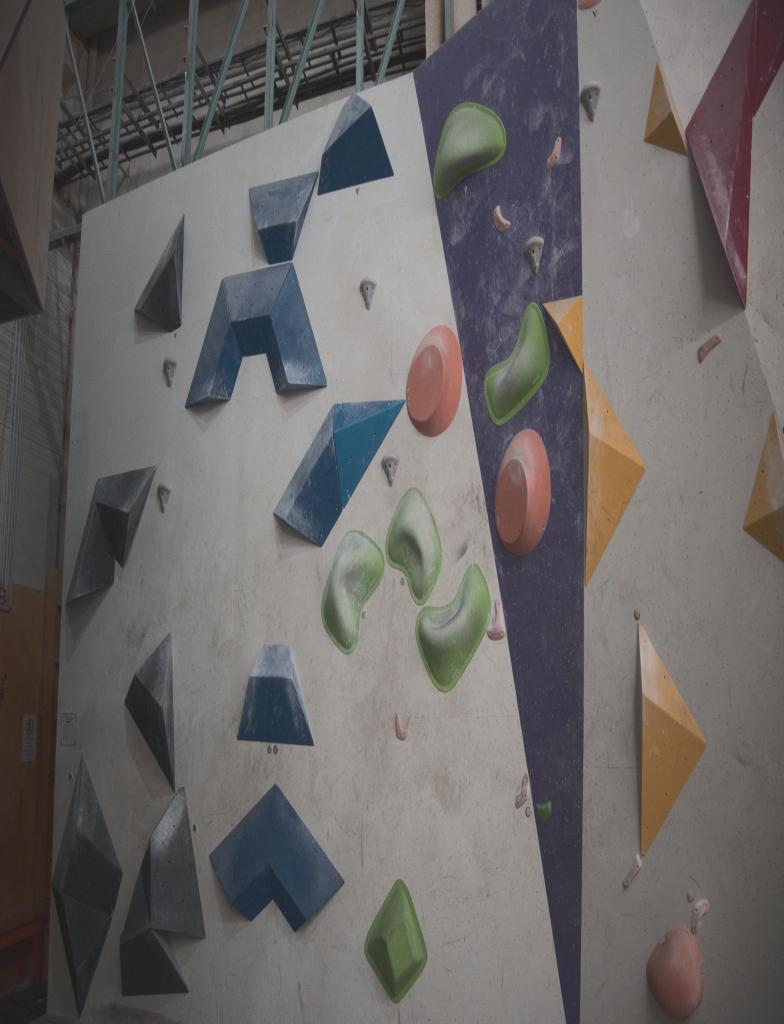crimp: (495, 429, 550, 555), (406, 325, 462, 437), (698, 333, 721, 363), (515, 773, 528, 808), (395, 713, 407, 740)
downhold: (580, 81, 600, 121), (525, 236, 543, 274), (382, 453, 399, 486), (360, 278, 375, 309), (157, 484, 171, 511), (164, 358, 176, 387)
jib: (365, 879, 427, 1003)
ledge: (416, 564, 491, 691), (484, 303, 550, 425)
pinch: (487, 598, 505, 640), (546, 137, 561, 170), (494, 205, 510, 231)
sloper: (322, 530, 384, 655), (386, 487, 442, 604), (646, 926, 704, 1019)
undercling: (433, 103, 506, 197)
volume: (686, 0, 784, 305), (186, 263, 326, 407), (210, 784, 343, 931), (274, 400, 404, 546), (52, 756, 122, 1013), (120, 787, 205, 995), (638, 624, 706, 855), (584, 363, 644, 585), (66, 465, 156, 603), (125, 632, 175, 790), (237, 644, 313, 744), (319, 94, 393, 193), (248, 171, 319, 266), (743, 413, 784, 561), (136, 216, 184, 331), (644, 63, 687, 156)
